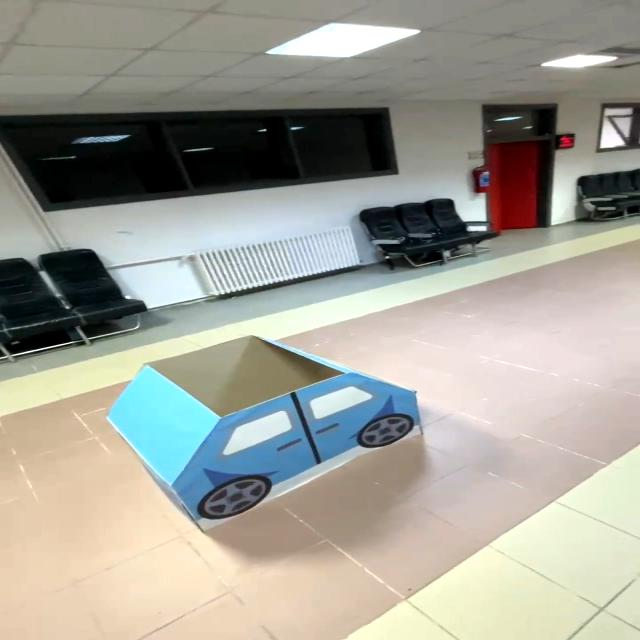blue_car: (81, 322, 477, 542)
